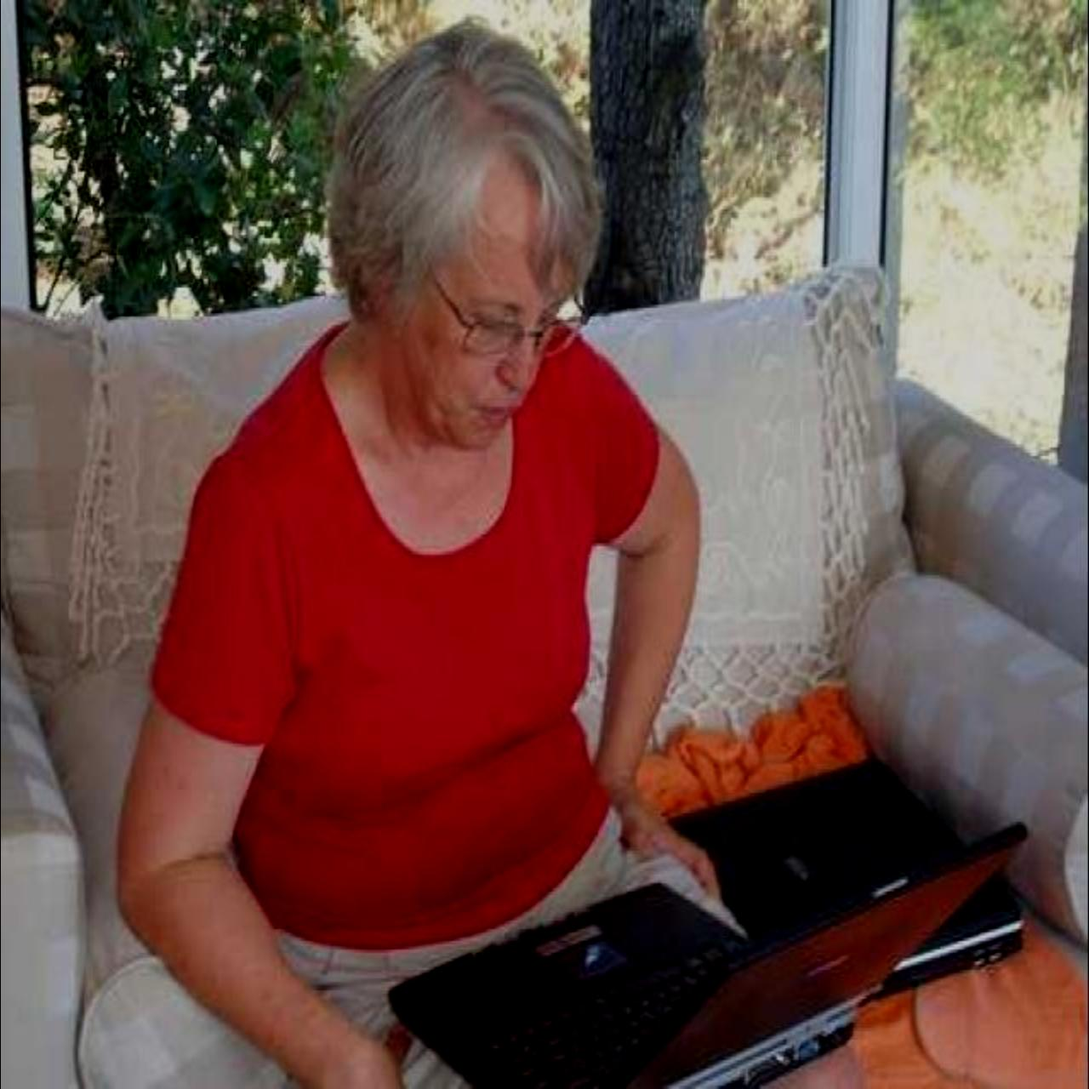laptop: (456, 815, 1031, 1089)
